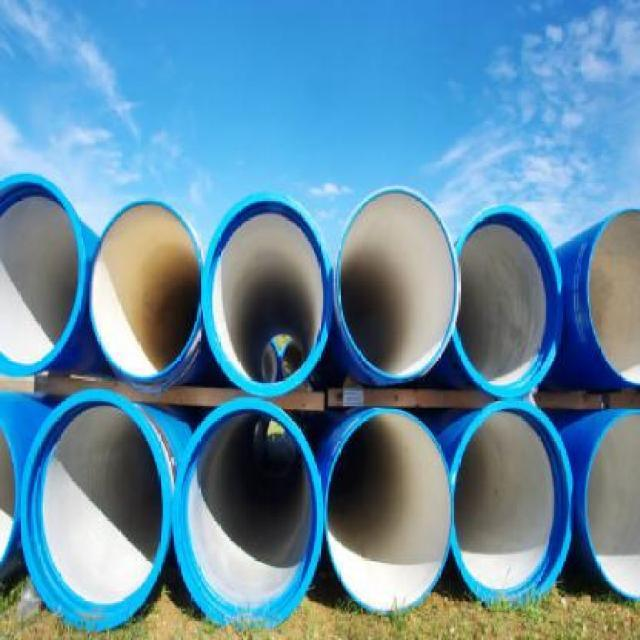pipe: (20, 394, 168, 631), (174, 402, 324, 630), (326, 411, 454, 614), (451, 400, 572, 609), (202, 196, 328, 396), (337, 188, 460, 380), (453, 205, 563, 398), (90, 200, 203, 378), (0, 172, 85, 375), (585, 411, 640, 602), (586, 206, 639, 389)
